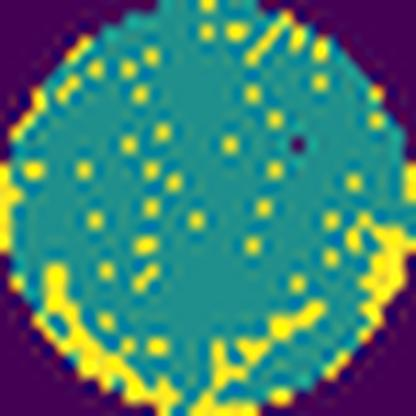Edge-Loc: (30, 261, 181, 416), (185, 297, 333, 416), (341, 208, 415, 344), (0, 160, 26, 252)
